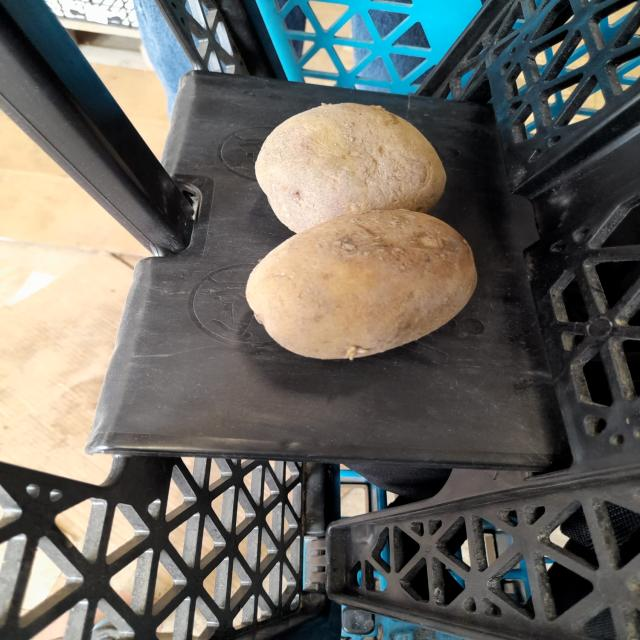potato: (230, 202, 497, 362), (240, 86, 464, 234)
